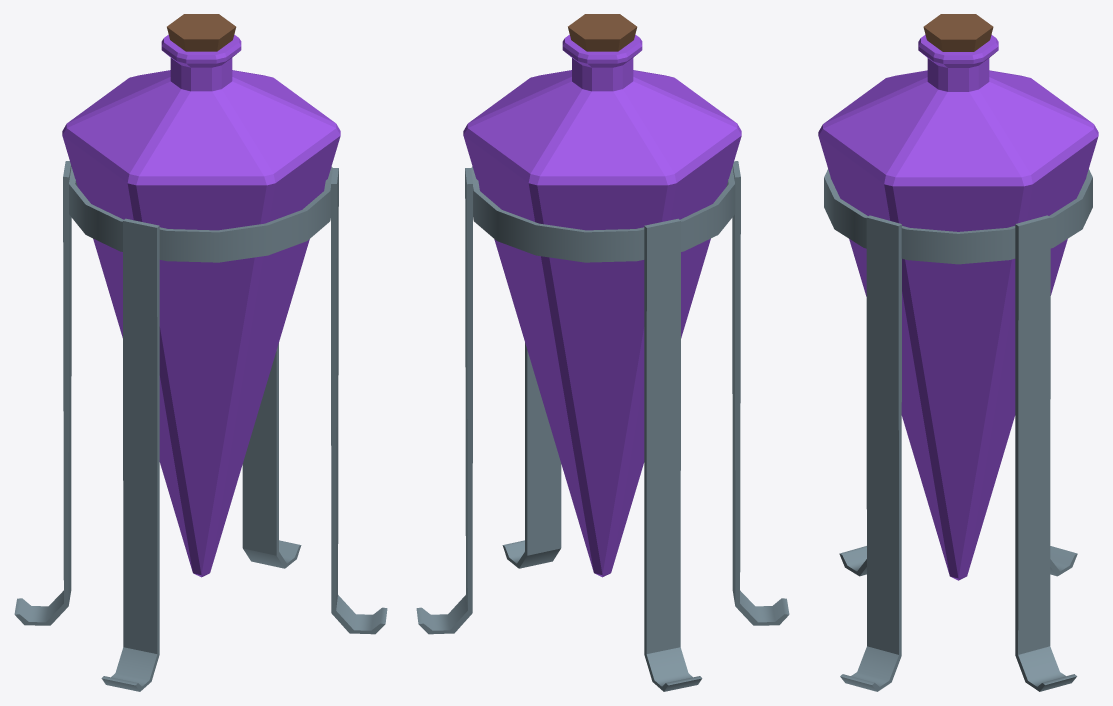
The model's file is Potion_05_Purple.fbx.
3 views of the same model, side by side, from view 1: azimuth 30°, elevation 25°; view 2: azimuth 150°, elevation 25°; view 3: azimuth 270°, elevation 25° (orthographic).
Parts seen in each view (by area): view 1: Cone.023, Cube.053, Cylinder.066, Cube.054, Cube.055, Cube.052, Cylinder.067, Cylinder.068; view 2: Cone.023, Cube.055, Cylinder.066, Cube.052, Cube.053, Cube.054, Cylinder.067, Cylinder.068; view 3: Cone.023, Cube.054, Cube.052, Cylinder.066, Cylinder.067, Cylinder.068, Cube.055, Cube.053.
Part boxes in pixels (x1=…): Cone.023: x1=62, y1=70, x2=340, y2=577; Cube.053: x1=101, y1=218, x2=159, y2=691; Cylinder.066: x1=69, y1=166, x2=332, y2=262; Cube.054: x1=242, y1=343, x2=301, y2=568; Cube.055: x1=14, y1=161, x2=71, y2=625; Cube.052: x1=331, y1=168, x2=387, y2=634; Cylinder.067: x1=161, y1=34, x2=241, y2=91; Cylinder.068: x1=167, y1=14, x2=236, y2=51; Cone.023: x1=463, y1=70, x2=741, y2=577; Cube.055: x1=644, y1=218, x2=702, y2=691; Cylinder.066: x1=471, y1=166, x2=735, y2=262; Cube.052: x1=502, y1=343, x2=561, y2=568; Cube.053: x1=732, y1=161, x2=789, y2=625; Cube.054: x1=416, y1=168, x2=472, y2=634; Cylinder.067: x1=562, y1=34, x2=642, y2=91; Cylinder.068: x1=568, y1=14, x2=637, y2=51; Cone.023: x1=818, y1=70, x2=1098, y2=580; Cube.054: x1=1015, y1=215, x2=1076, y2=691; Cube.052: x1=840, y1=215, x2=901, y2=691; Cylinder.066: x1=824, y1=169, x2=1092, y2=264; Cylinder.067: x1=918, y1=34, x2=998, y2=91; Cylinder.068: x1=923, y1=14, x2=993, y2=51; Cube.055: x1=1050, y1=546, x2=1077, y2=576; Cube.053: x1=839, y1=546, x2=866, y2=576.
Bounding box in the file's own units: 19.94 × 39.59 × 16.79.
